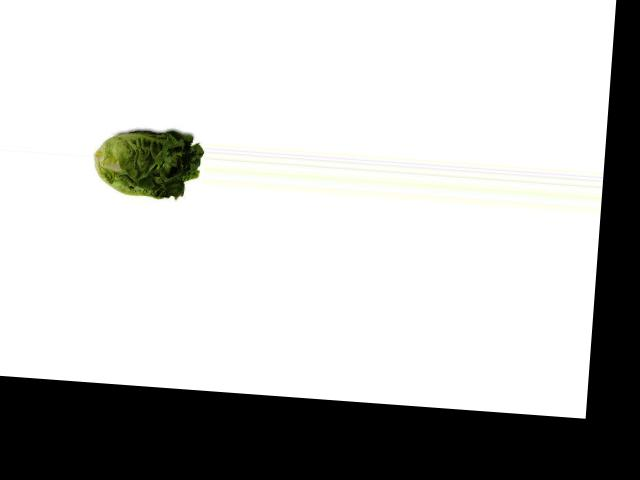lettuce: (90, 121, 202, 207)
